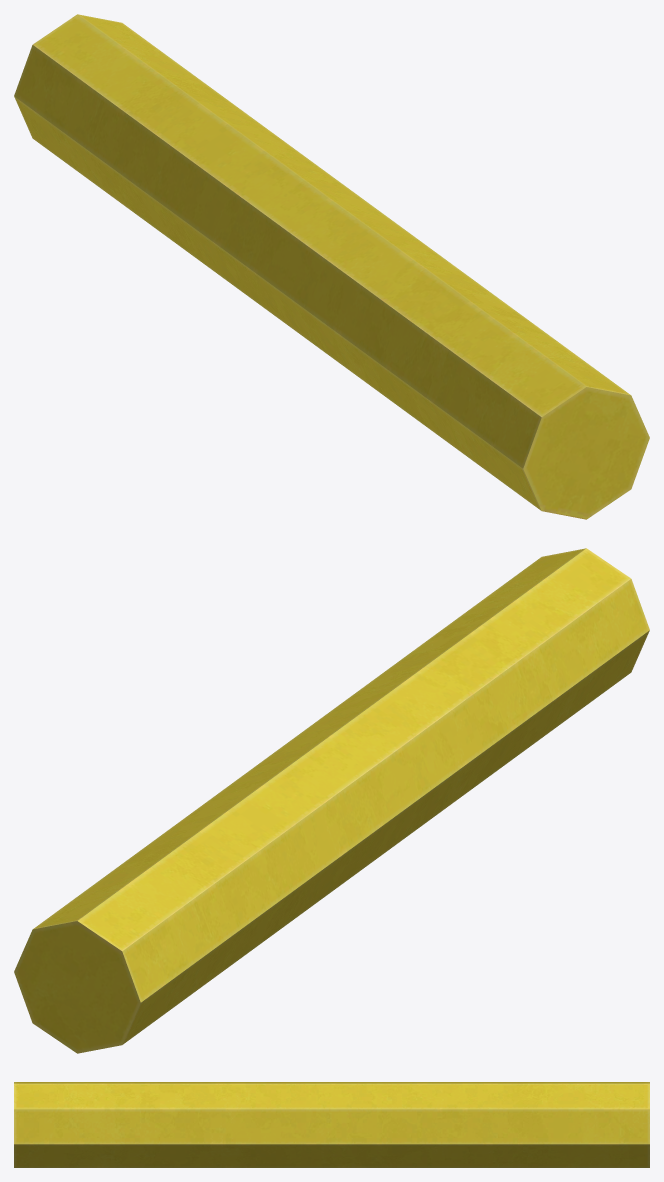
The model's file is GoldRod_Polished.glb.
3 views of the same model, one above another, from view 1: azimuth 30°, elevation 25°; view 2: azimuth 150°, elevation 25°; view 3: azimuth 270°, elevation 25° (orthographic). The views are drawn at different scales.
Parts seen in each view (by area): view 1: GoldRod_Polished; view 2: GoldRod_Polished; view 3: GoldRod_Polished.
Part boxes in pixels (x1,y1,x2,y2): GoldRod_Polished: (14, 14, 649, 519); GoldRod_Polished: (14, 548, 649, 1053); GoldRod_Polished: (14, 1082, 649, 1167).
Bounding box in the file's own units: 0.1162 × 0.1162 × 0.8081.
Materials: 1 (1 with a texture image).
